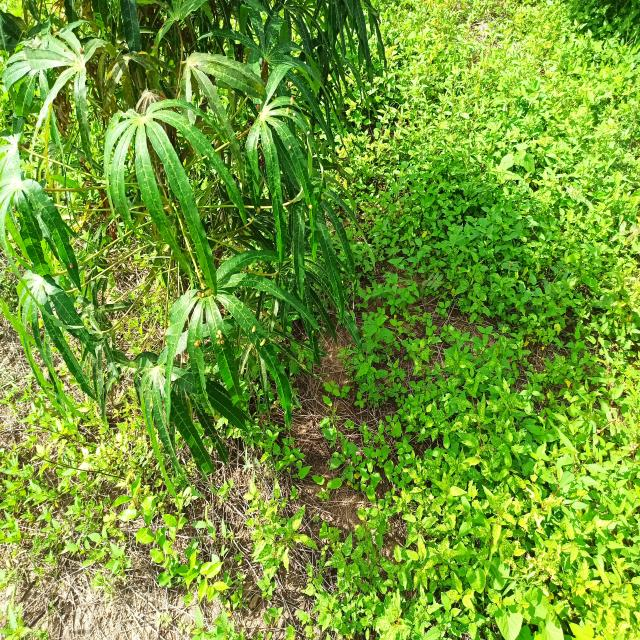Maleza: (365, 173, 640, 477), (399, 2, 640, 347), (311, 403, 640, 640)
Mosca: (212, 329, 231, 354), (280, 106, 300, 118), (162, 244, 177, 258), (258, 338, 270, 352), (194, 337, 209, 348), (303, 127, 312, 142), (288, 96, 299, 107), (77, 41, 87, 53), (246, 325, 260, 333), (66, 261, 76, 271), (286, 143, 294, 154), (307, 199, 315, 210), (61, 45, 70, 54)
